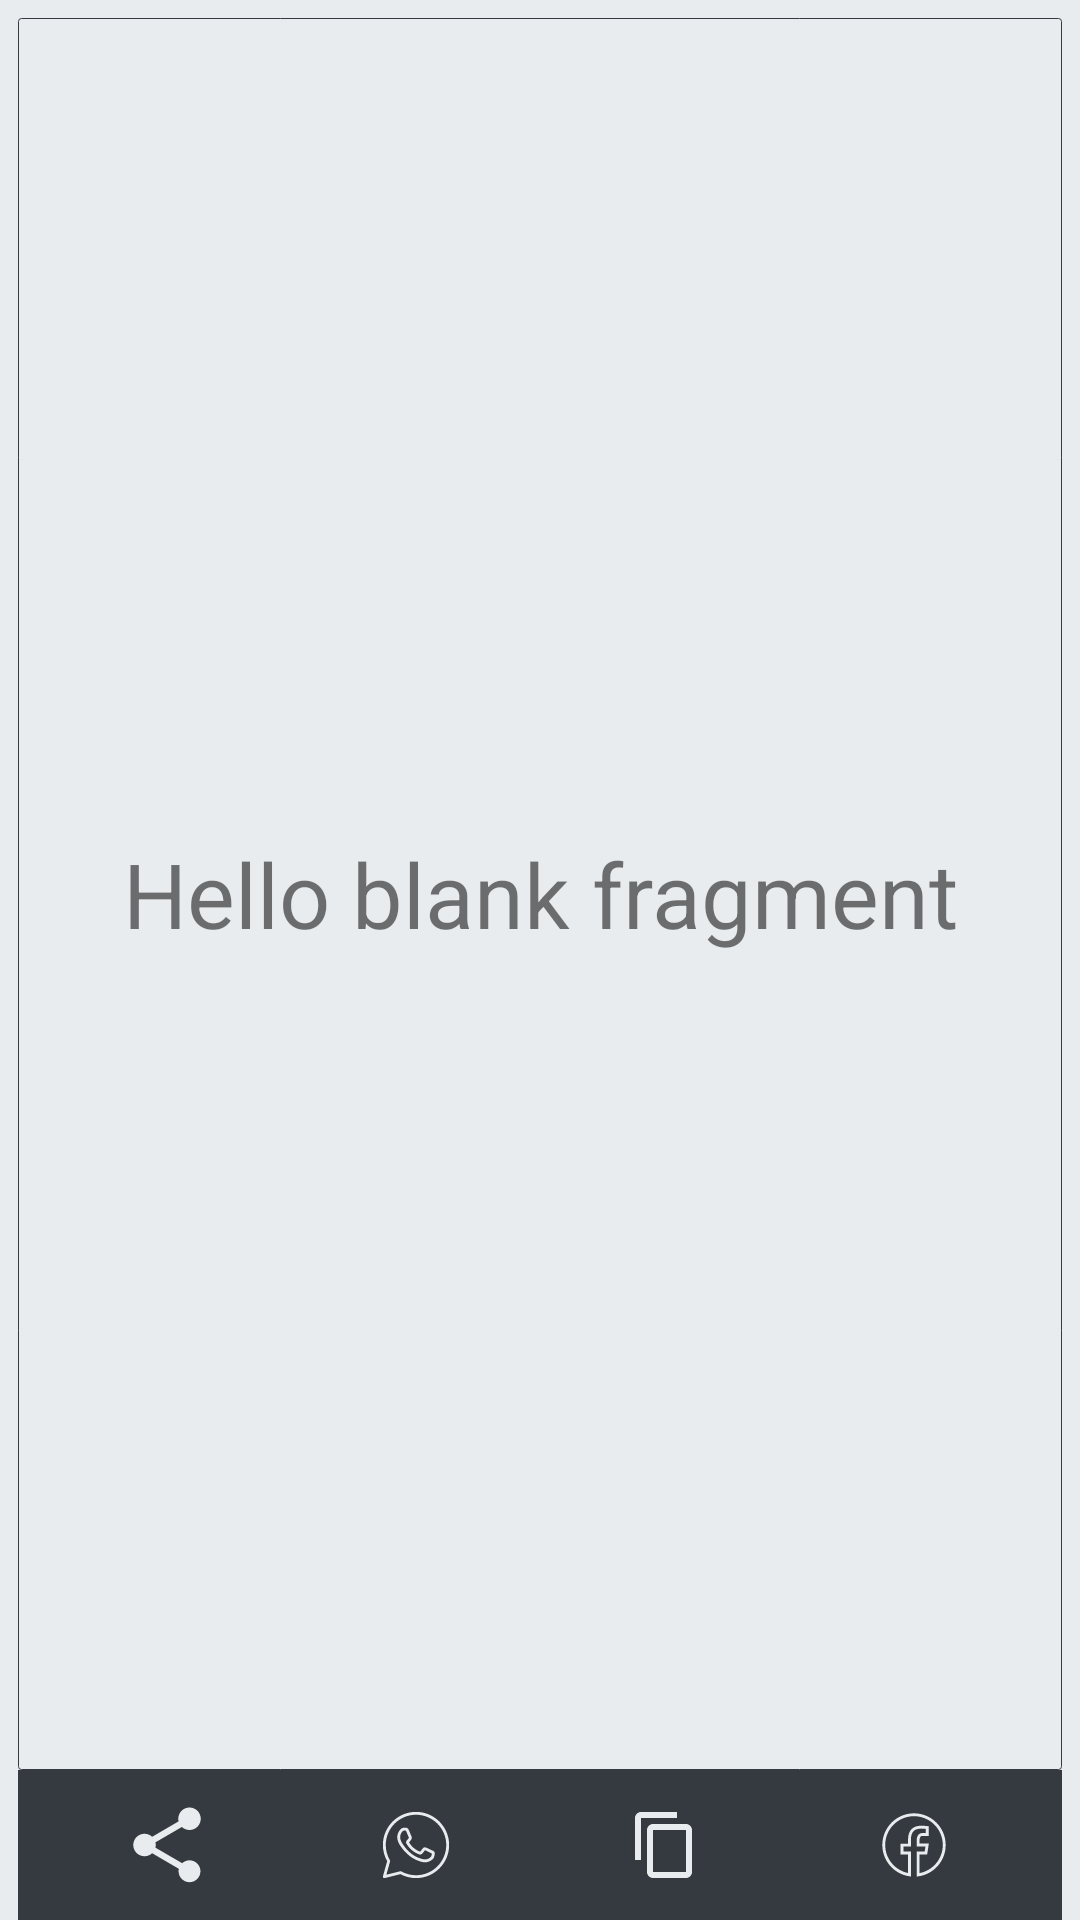

Icons on this 1080w x 1920h Android screen, each with the point to tap as point (x, y):
share: point (167, 1845)
